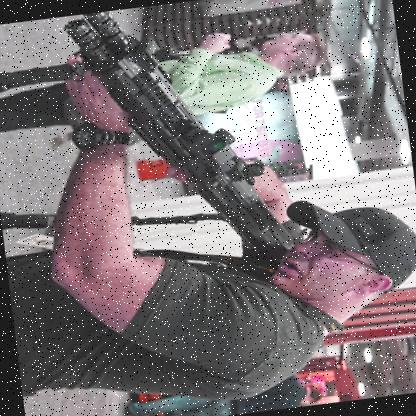rifle: (40, 0, 315, 291)
